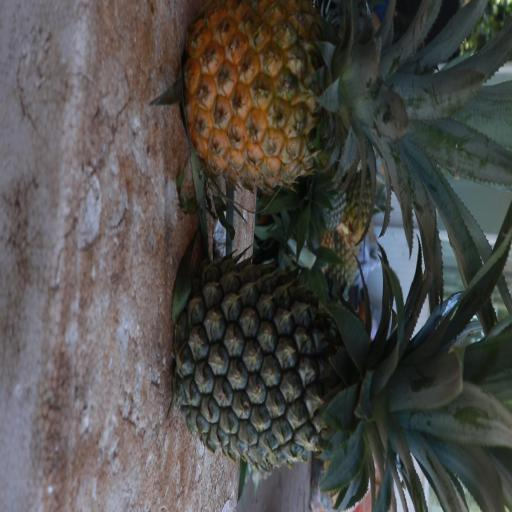Pineapple - v8 v1: (188, 4, 460, 191)
